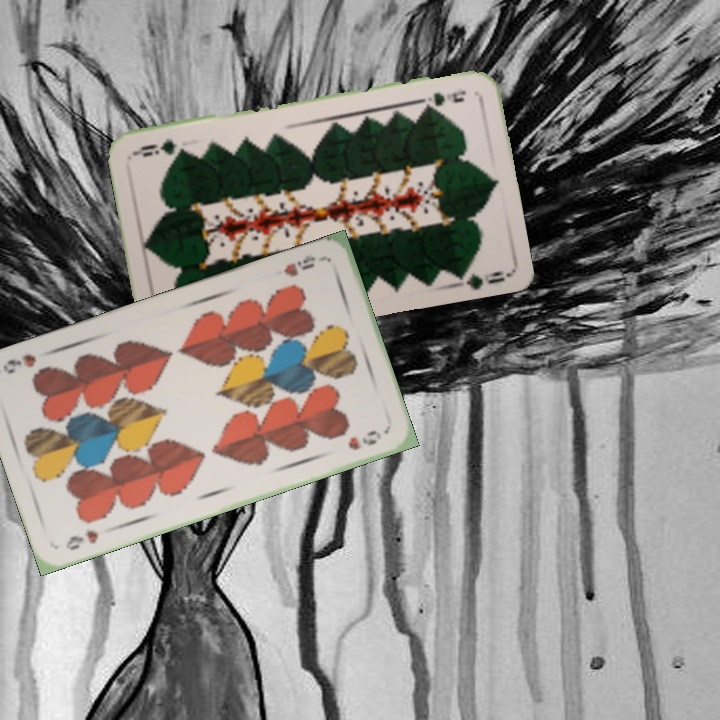G9: (416, 86, 468, 111)
H9: (279, 250, 327, 279), (61, 525, 101, 553)
